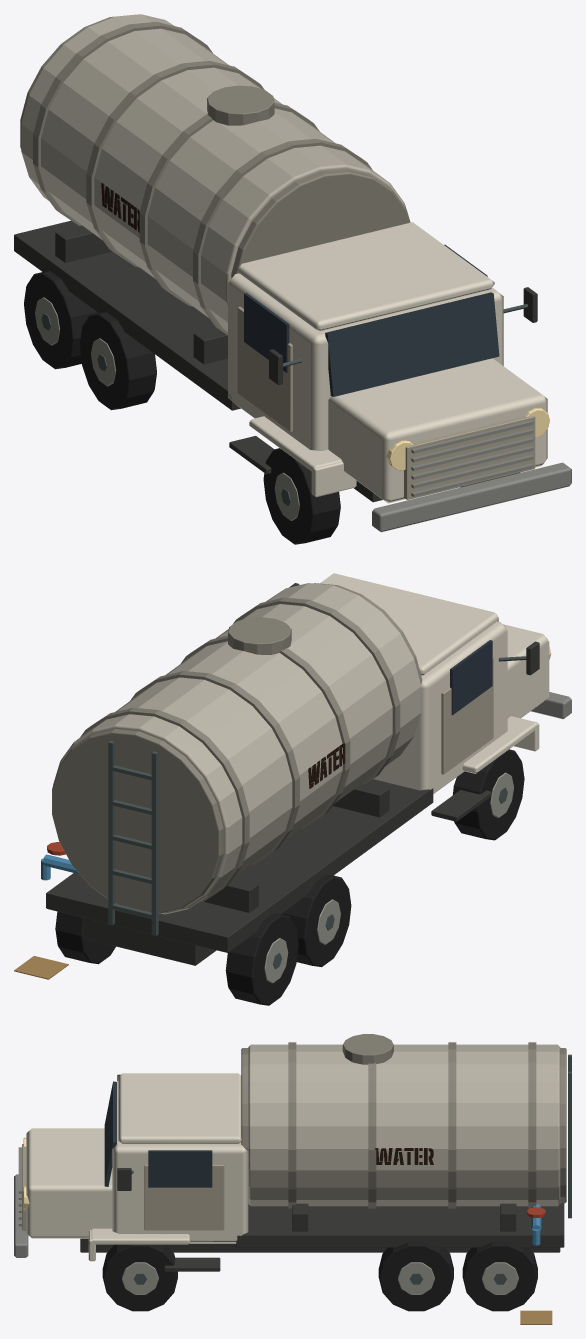
File: WaterTruck.glb
The picture shows the model from 3 angles, top to bottom: view 1: azimuth 30°, elevation 25°; view 2: azimuth 150°, elevation 25°; view 3: azimuth 270°, elevation 25°; orthographic projection. The views are drawn at different scales.
Visible parts, largest first — view 1: WaterTruck.001; view 2: WaterTruck.001; view 3: WaterTruck.001.
Boxes of the visible parts, <box> form: WaterTruck.001: <box>14,14,571,544</box>; WaterTruck.001: <box>14,573,571,1005</box>; WaterTruck.001: <box>14,1034,571,1324</box>.
Bounding box in the file's own units: 2.91 × 3.17 × 6.97.
